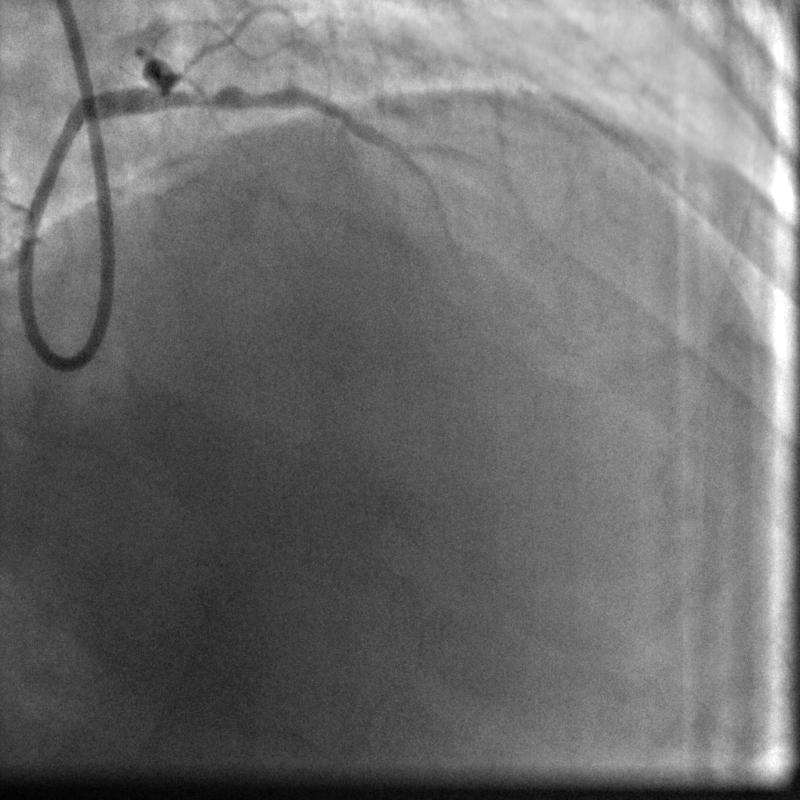Stenosis: (188, 79, 278, 113)
